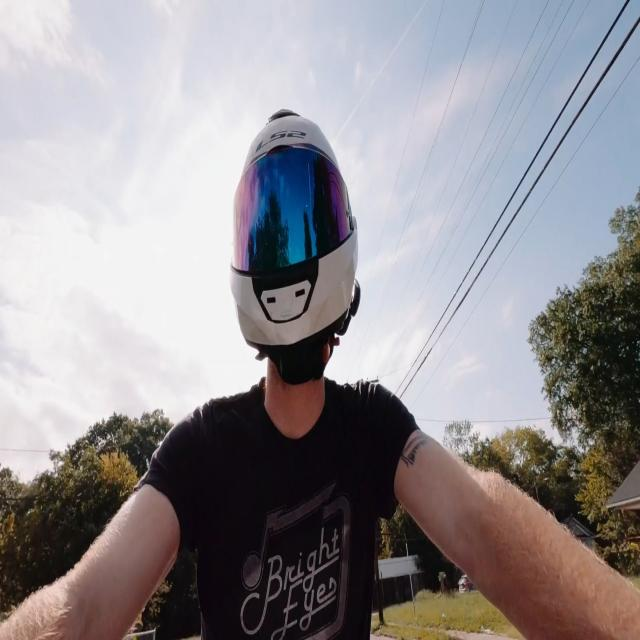Helmet_Wearer: (213, 78, 367, 448)
Person: (2, 102, 640, 640)
